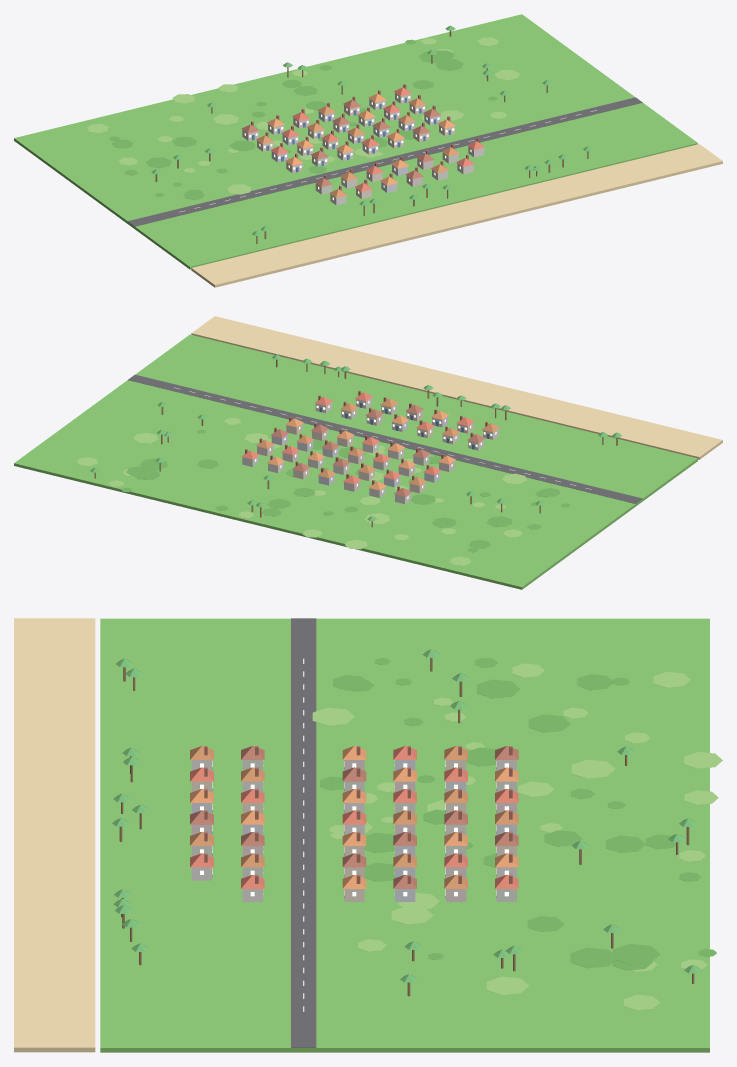
Rendered from city.glb.
3 renders of one model, top to bottom at view 1: azimuth 30°, elevation 25°; view 2: azimuth 150°, elevation 25°; view 3: azimuth 270°, elevation 25°, orthographic. The views are drawn at different scales.
Parts seen in each view (by area): view 1: land, beach, road; view 2: land, beach, road; view 3: land, beach, road, Cylinder.057, Cylinder.053.
Part boxes in pixels (left/top/right/bottom): land: left=14, top=14, right=697, bottom=269; beach: left=191, top=144, right=722, bottom=287; road: left=128, top=97, right=642, bottom=226; land: left=14, top=334, right=697, bottom=589; beach: left=191, top=316, right=722, bottom=459; road: left=128, top=374, right=642, bottom=503; land: left=100, top=618, right=709, bottom=1052; beach: left=14, top=618, right=95, bottom=1052; road: left=291, top=618, right=316, bottom=1047; Cylinder.057: left=612, top=944, right=659, bottom=964; Cylinder.053: left=570, top=947, right=615, bottom=968.
Size of what is drawn, in the model's own units: 200 by 6.75 by 140.
